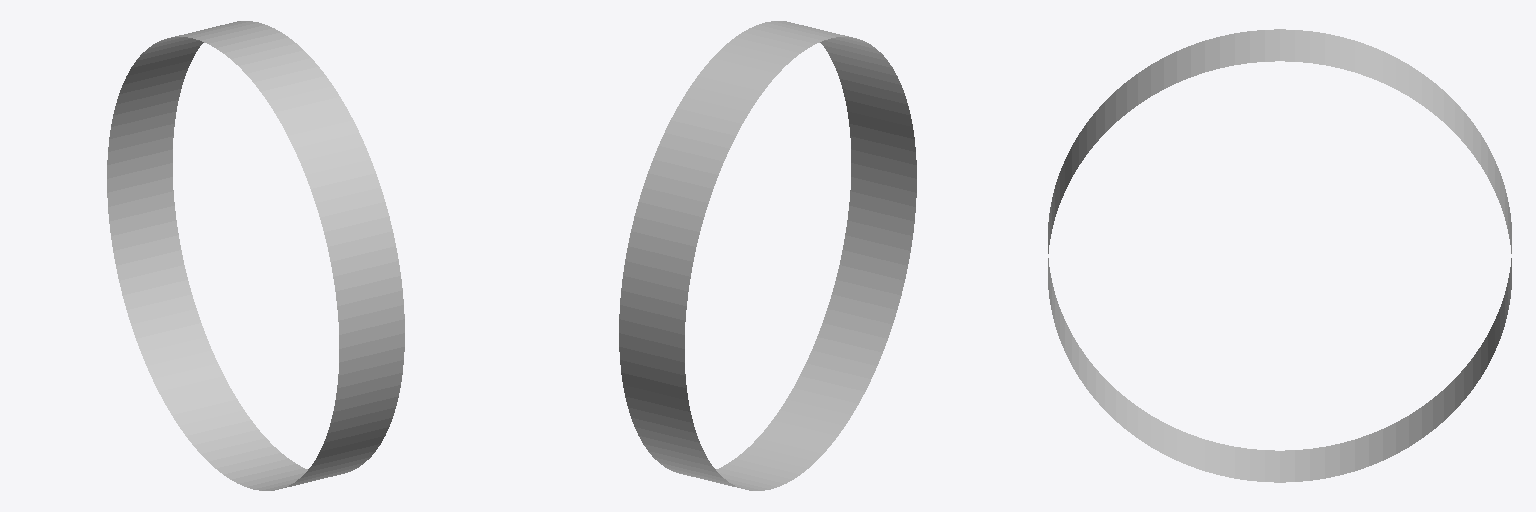
Rendered from torso_l3_0.obj.
3 renders of one model, left to right at view 1: azimuth 30°, elevation 25°; view 2: azimuth 150°, elevation 25°; view 3: azimuth 270°, elevation 25°, orthographic.
Size of the model in its own units: 0.0034 by 0.021 by 0.021.